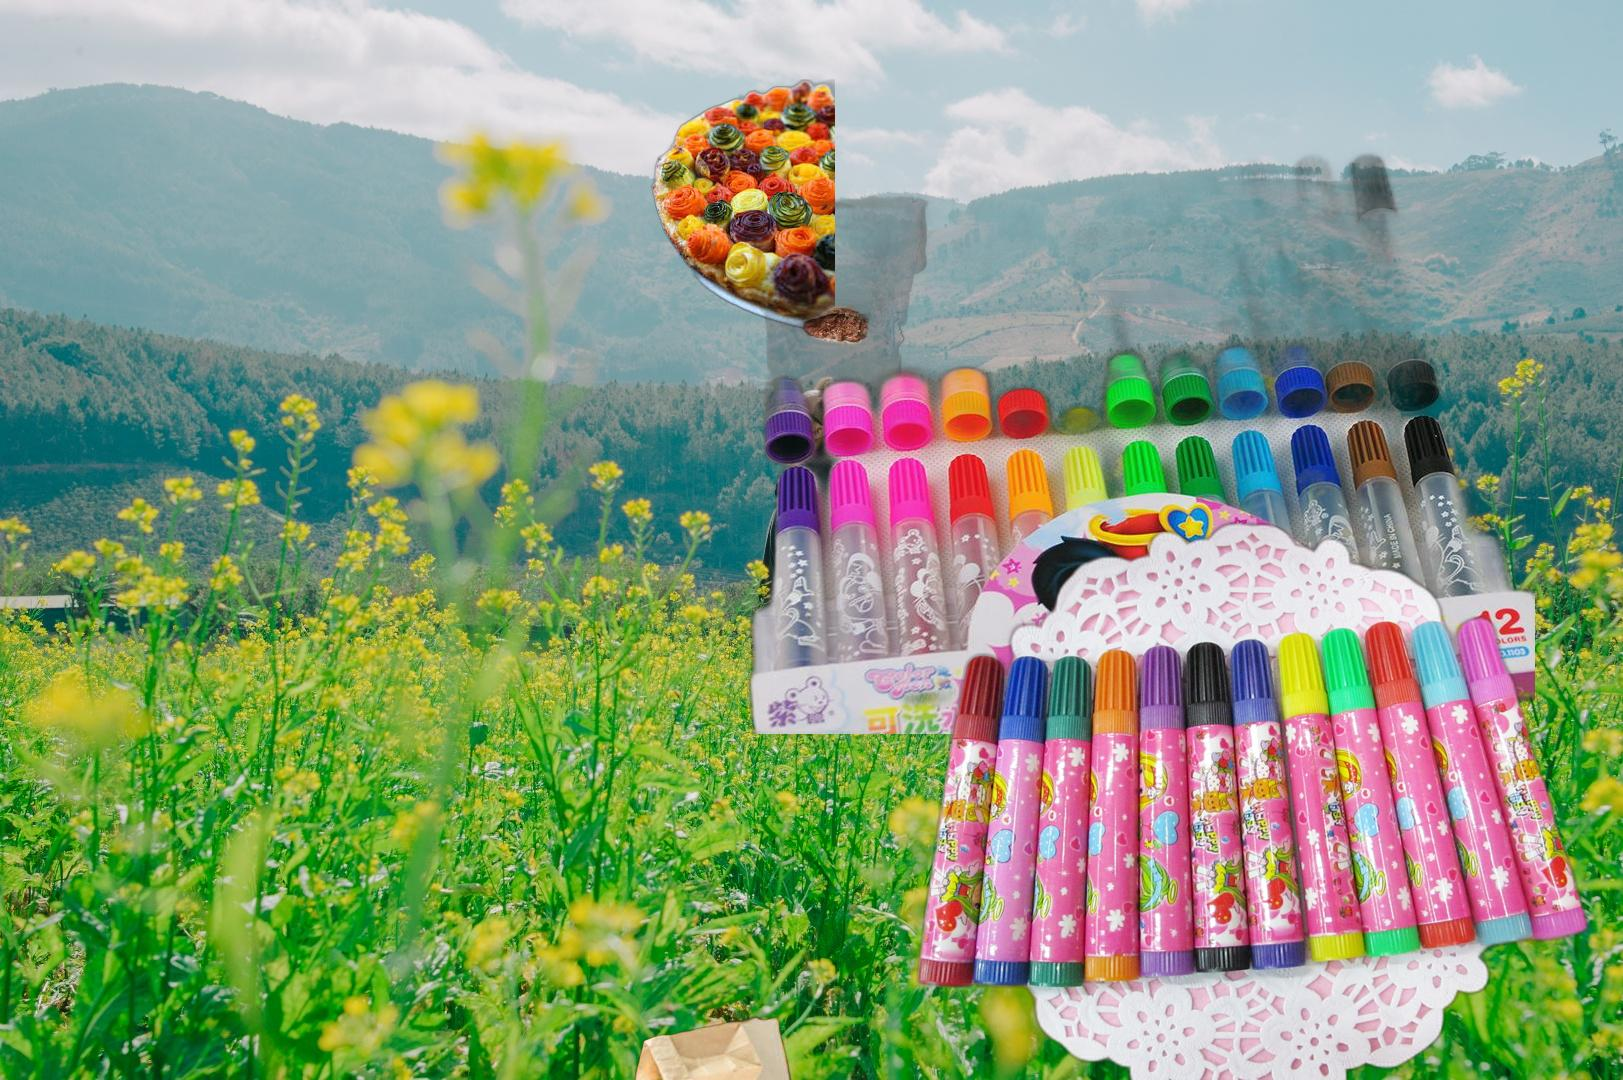biological: (649, 80, 835, 331)
paper: (1582, 715, 1623, 1080)
paper-bag: (633, 1014, 815, 1080)
penholder: (735, 0, 1535, 734), (911, 516, 1595, 1080), (1590, 764, 1623, 1080)
trash: (741, 183, 934, 444), (770, 541, 931, 741)
